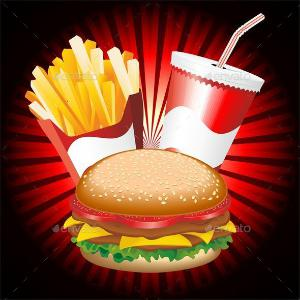cheeseburger: (50, 143, 242, 277)
fries: (19, 32, 149, 132)
